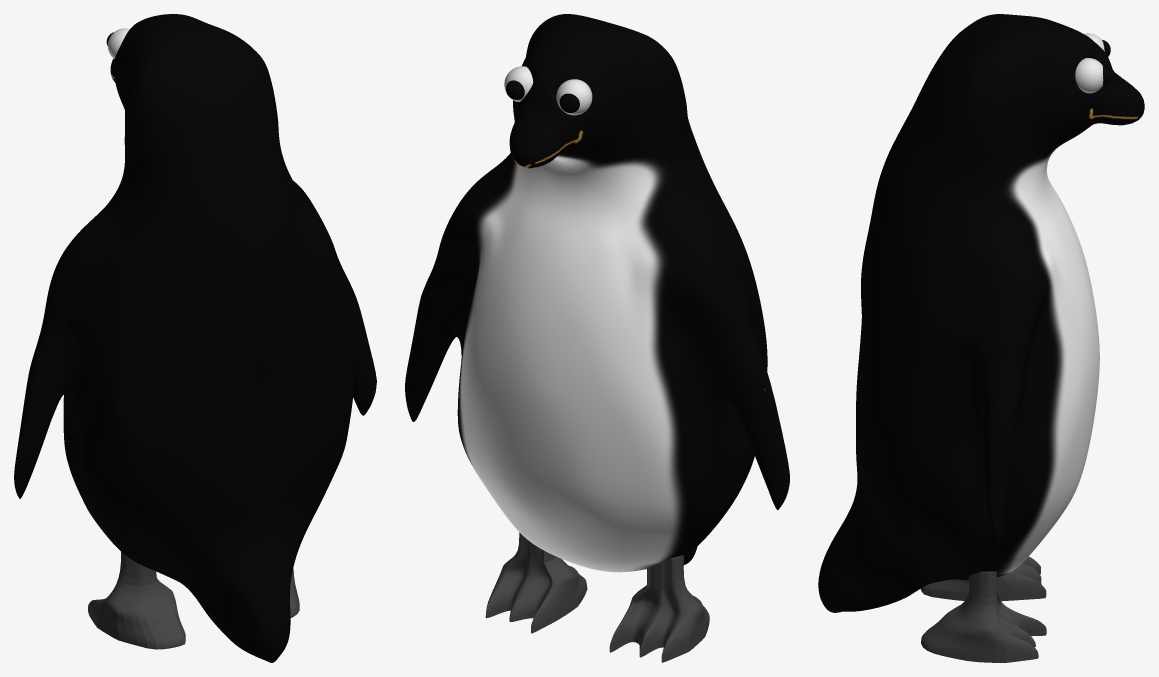
File: Penguin.glb
3 views of the same model, side by side, from view 1: azimuth 30°, elevation 25°; view 2: azimuth 150°, elevation 25°; view 3: azimuth 270°, elevation 25° (orthographic). The views are drawn at different scales.
Visible parts, largest first — view 1: Icosphere, PeguinFeet; view 2: Icosphere, PeguinFeet, Sphere.001; view 3: Icosphere, PeguinFeet, Sphere.
Boxes of the visible parts, x1=… form: Icosphere: x1=14, y1=14, x2=376, y2=662; PeguinFeet: x1=88, y1=552, x2=299, y2=649; Icosphere: x1=405, y1=14, x2=789, y2=572; PeguinFeet: x1=485, y1=532, x2=709, y2=662; Sphere.001: x1=556, y1=79, x2=592, y2=115; Icosphere: x1=818, y1=14, x2=1144, y2=612; PeguinFeet: x1=920, y1=556, x2=1046, y2=662; Sphere: x1=1075, y1=58, x2=1103, y2=93.
Size of the model in its own units: 0.3016 by 0.4575 by 0.2276.
Materials: 3 (1 with a texture image).
